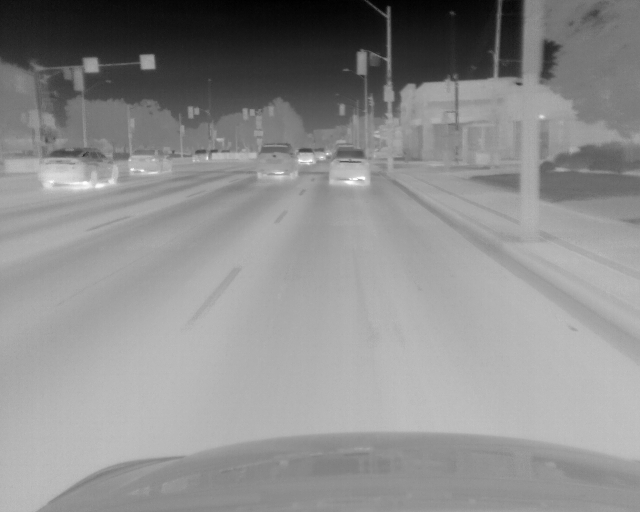car: (39, 147, 120, 188), (328, 150, 373, 190), (255, 142, 299, 180), (129, 148, 173, 174), (295, 148, 316, 166), (192, 149, 212, 161), (315, 150, 328, 162)
